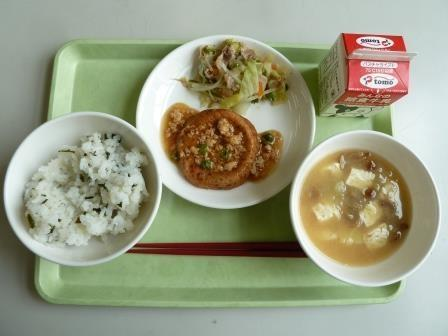Milk: (327, 16, 428, 121)
Rice: (11, 132, 163, 269)
Soups: (286, 148, 419, 294)
pastry: (177, 105, 289, 189)
salad with sauce: (166, 27, 286, 105)
